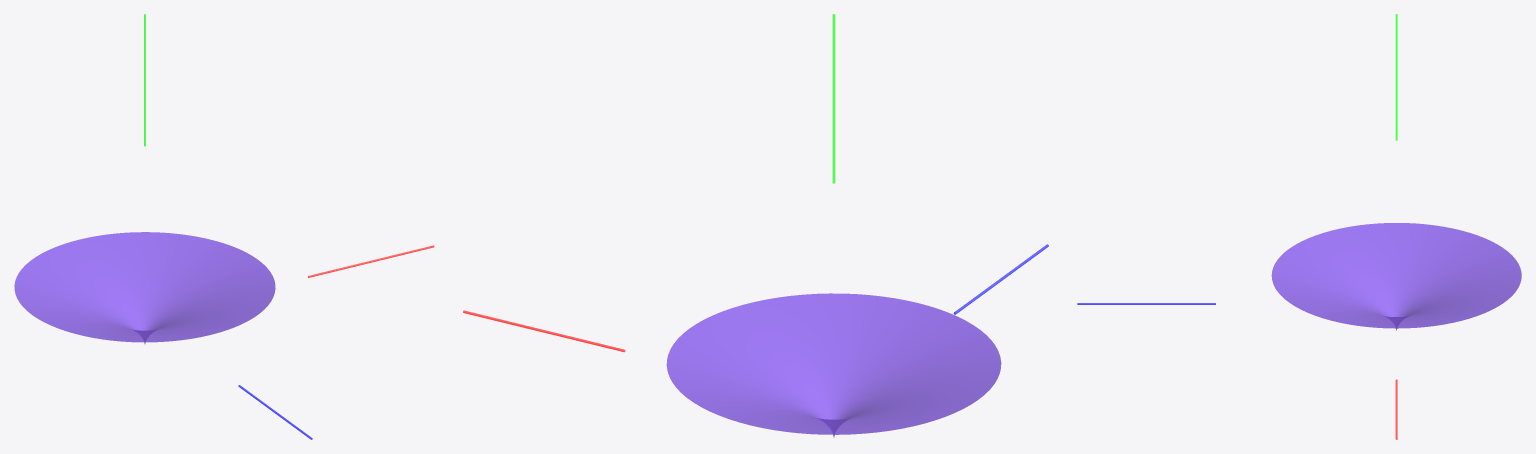
Rendered from solid-of-revolution-paraboloid.glb.
3 views of the same model, side by side, from view 1: azimuth 30°, elevation 25°; view 2: azimuth 150°, elevation 25°; view 3: azimuth 270°, elevation 25° (orthographic). The views are drawn at different scales.
Size of the model in its own units: 1.78 by 1.4 by 1.78.
